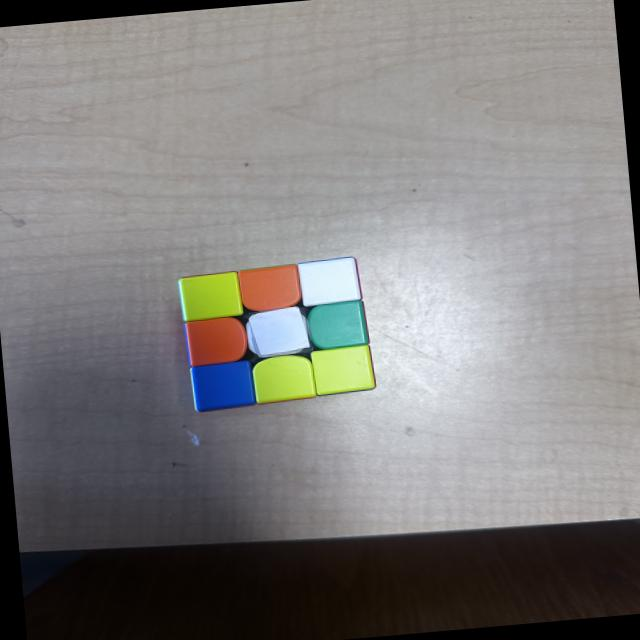sticker: (243, 304, 313, 360), (294, 254, 364, 309), (190, 359, 257, 414), (176, 270, 243, 324), (250, 352, 318, 405), (184, 314, 250, 368), (235, 263, 303, 315), (304, 299, 370, 352), (309, 344, 376, 396)
